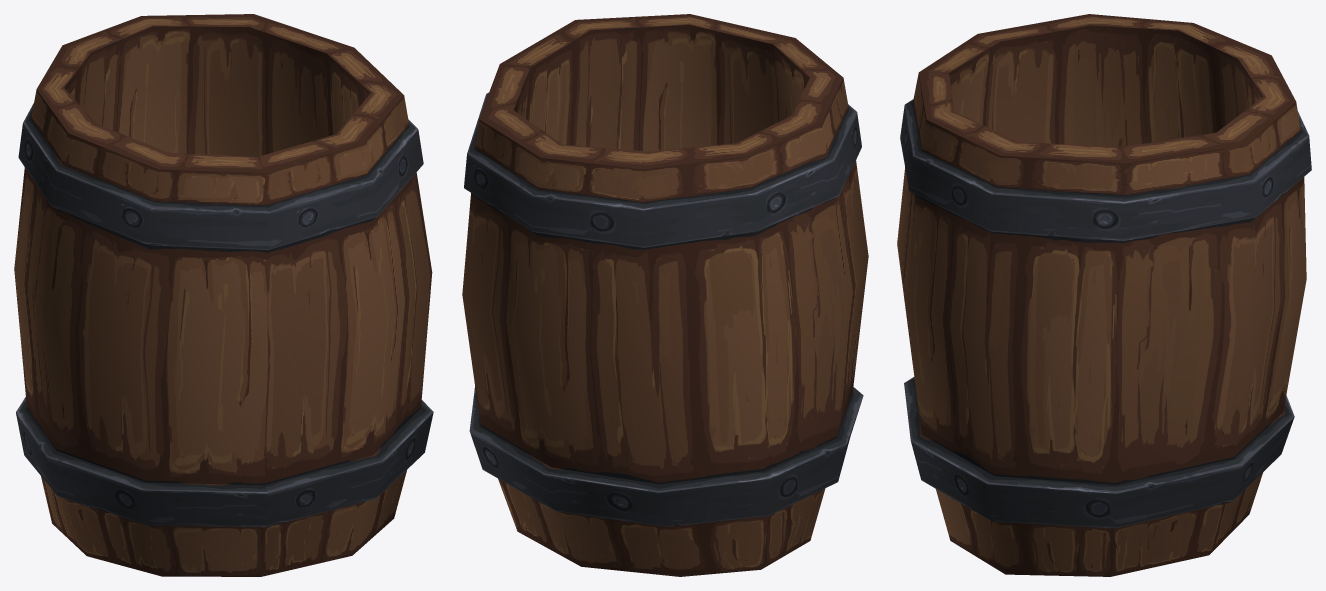
File: SM_PROP_barrel_interior_02.fbx
3 renders of one model, left to right at view 1: azimuth 30°, elevation 25°; view 2: azimuth 150°, elevation 25°; view 3: azimuth 270°, elevation 25°, orthographic.
Parts seen in each view (by area): view 1: SM_PROP_barrel_interior_02; view 2: SM_PROP_barrel_interior_02; view 3: SM_PROP_barrel_interior_02.
Part boxes in pixels (box(x1,y1,x2,y2)): SM_PROP_barrel_interior_02: box(14, 14, 433, 576); SM_PROP_barrel_interior_02: box(462, 14, 868, 576); SM_PROP_barrel_interior_02: box(897, 14, 1311, 576).
Bounding box in the file's own units: 74.56 × 85.05 × 75.11.
